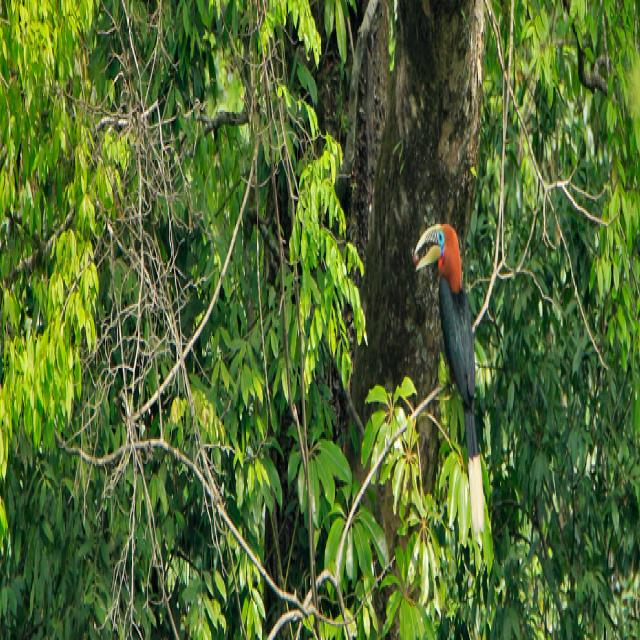Hornbill: (412, 211, 496, 556)
